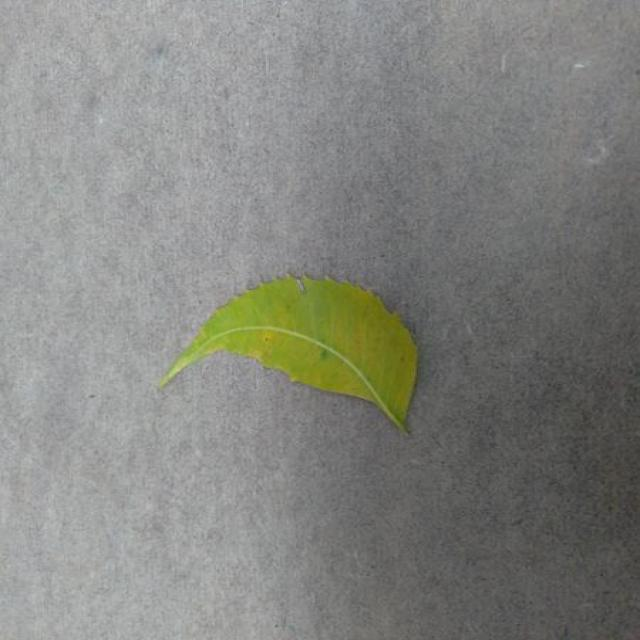neem: (160, 275, 417, 432)
